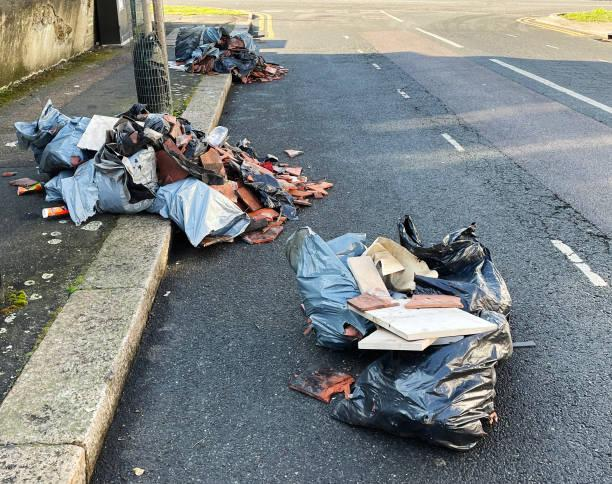trash: (283, 219, 521, 458), (18, 97, 320, 247), (170, 23, 298, 84)
